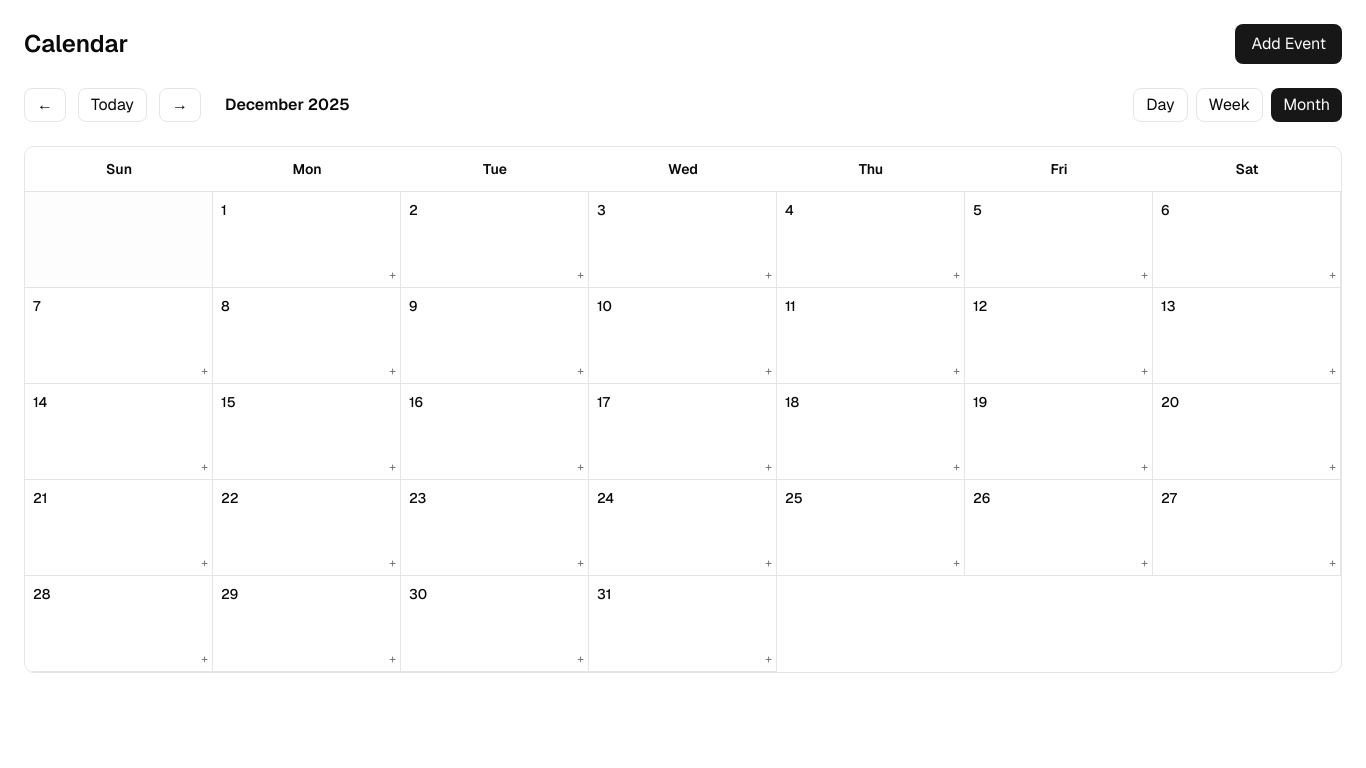
Scenario: Calendar › opens add event modal when add button is clicked
Click the button "Add Event" at (1289, 44), box [1236,24,1342,64]
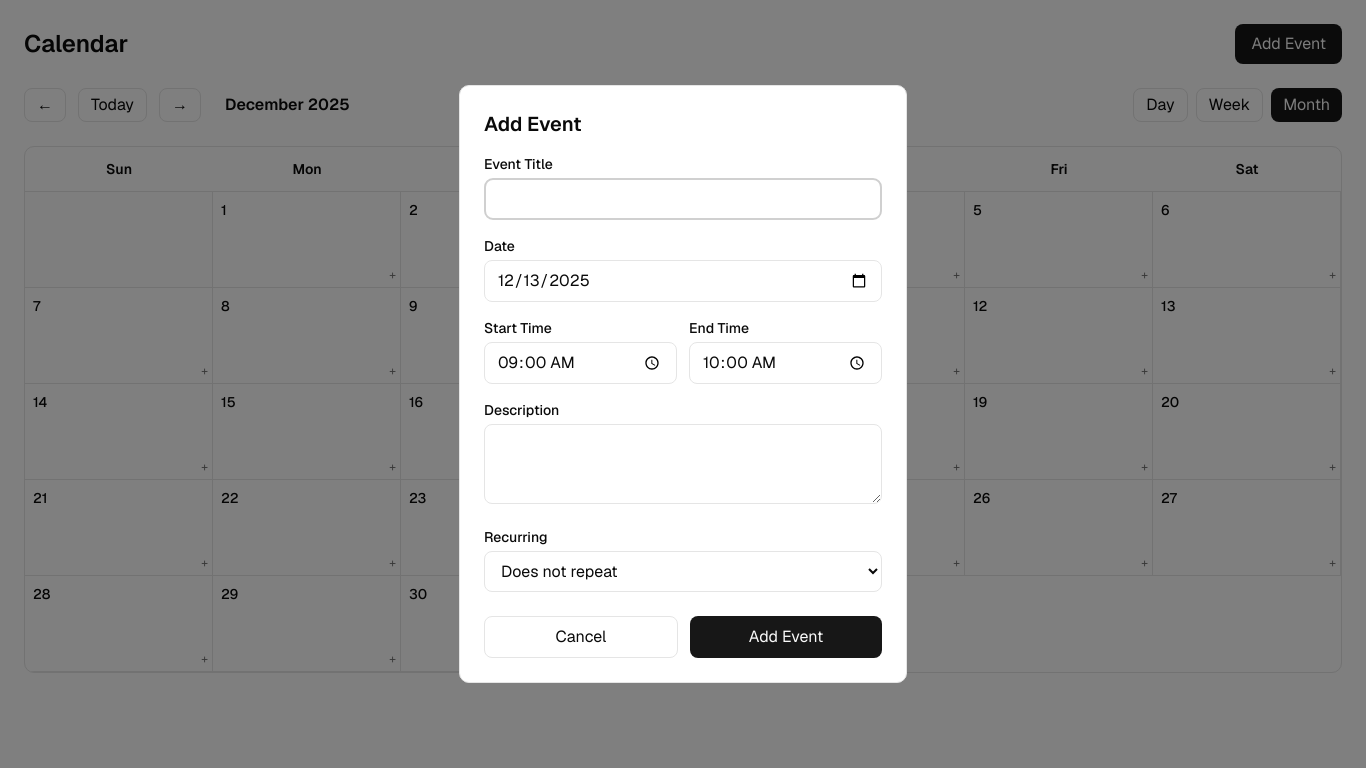
Now the text "Event Title" is shown, box [484,155,553,173]
